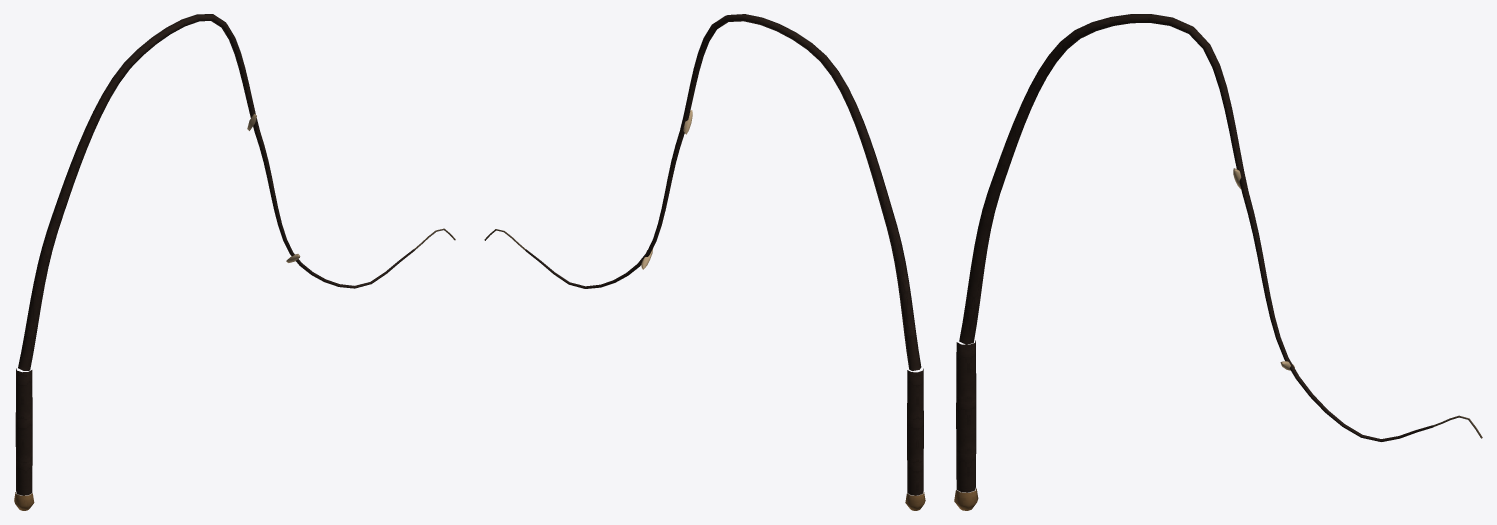
Rendered from whip.lod2.glb.
3 renders of one model, left to right at view 1: azimuth 30°, elevation 25°; view 2: azimuth 150°, elevation 25°; view 3: azimuth 330°, elevation 25°, orthographic. The views are drawn at different scales.
Parts seen in each view (by area): view 1: leather / oiled leather wrap; view 2: leather / oiled leather wrap; view 3: leather / oiled leather wrap.
Boxes of the visible parts, x1,y1,x2,y2 form: leather / oiled leather wrap: (15, 14, 414, 495); leather / oiled leather wrap: (525, 14, 923, 495); leather / oiled leather wrap: (956, 14, 1433, 492).
Size of the model in its own units: 0.9711 by 0.9531 by 0.048.
4 materials, 3 textured.
